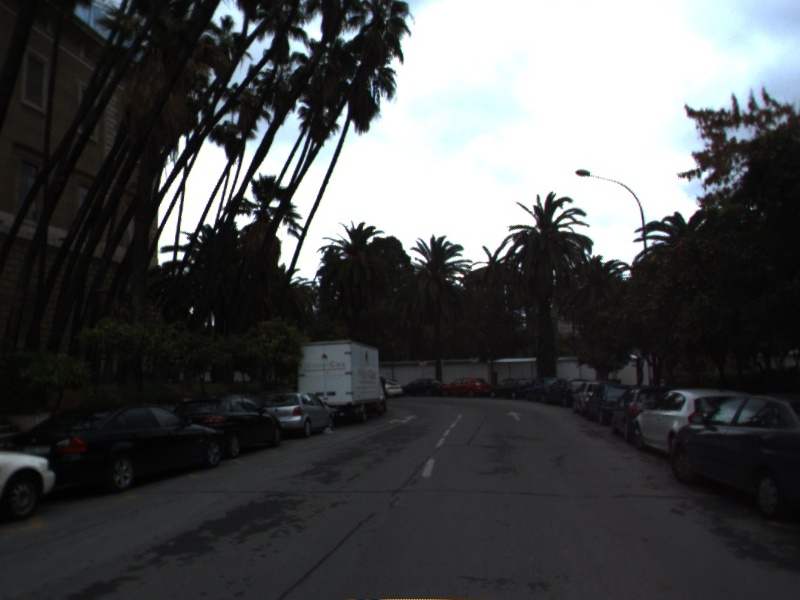STRAIGHT: (504, 409, 525, 422)
STRAIGHT_LEFT: (387, 413, 420, 426)
